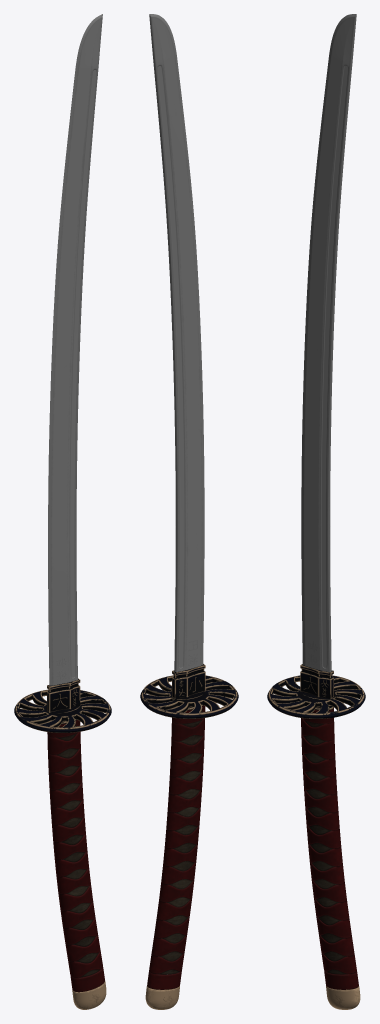
The picture shows the model from 3 angles, left to right: view 1: azimuth 30°, elevation 25°; view 2: azimuth 210°, elevation 25°; view 3: azimuth 330°, elevation 25°; orthographic projection.
Parts seen in each view (by area): view 1: Plain GUard high; view 2: Plain GUard high; view 3: Plain GUard high.
Boxes of the visible parts, bbox=[...] form: Plain GUard high: bbox=[14, 14, 111, 1009]; Plain GUard high: bbox=[140, 14, 238, 1009]; Plain GUard high: bbox=[267, 14, 365, 1009].
Size of the model in its own units: 44.85 by 500 by 44.65.
1 material, 1 textured.
